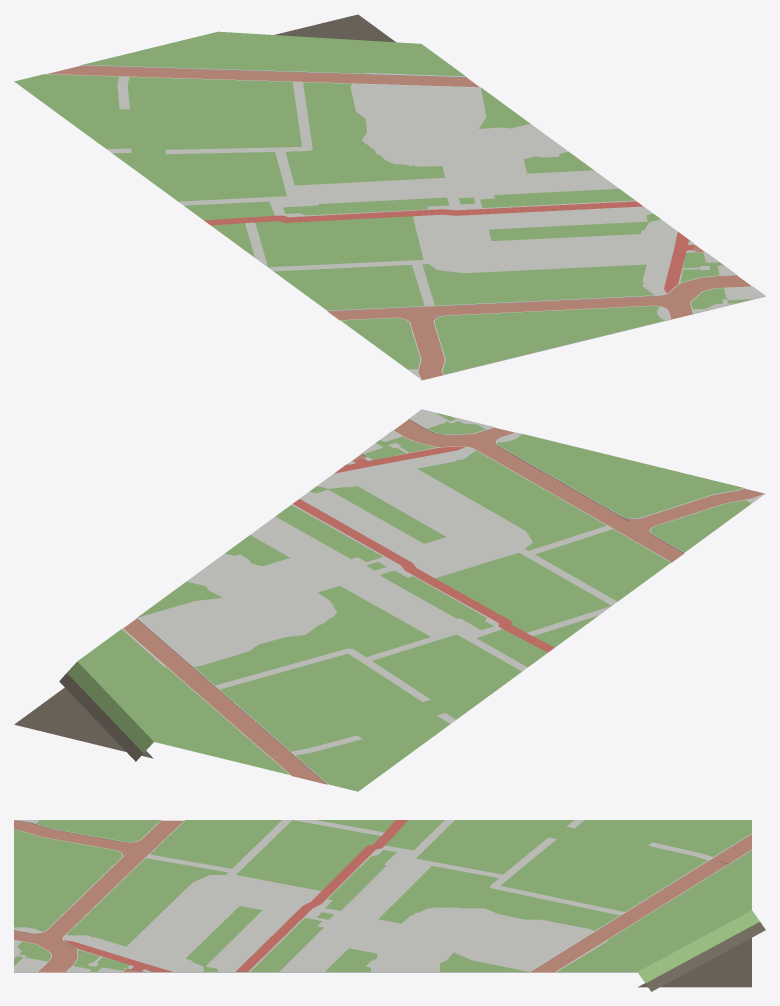
File: ground_13_13.glb
3 renders of one model, top to bottom at view 1: azimuth 30°, elevation 25°; view 2: azimuth 150°, elevation 25°; view 3: azimuth 270°, elevation 25°, orthographic. The views are drawn at different scales.
Parts seen in each view (by area): view 1: ground_13_13; view 2: ground_13_13; view 3: ground_13_13.
Boxes of the visible parts, bbox=[...] form: ground_13_13: bbox=[14, 14, 765, 380]; ground_13_13: bbox=[14, 409, 765, 791]; ground_13_13: bbox=[14, 820, 765, 991].
Size of the model in its own units: 79.34 by 3.62 by 161.
